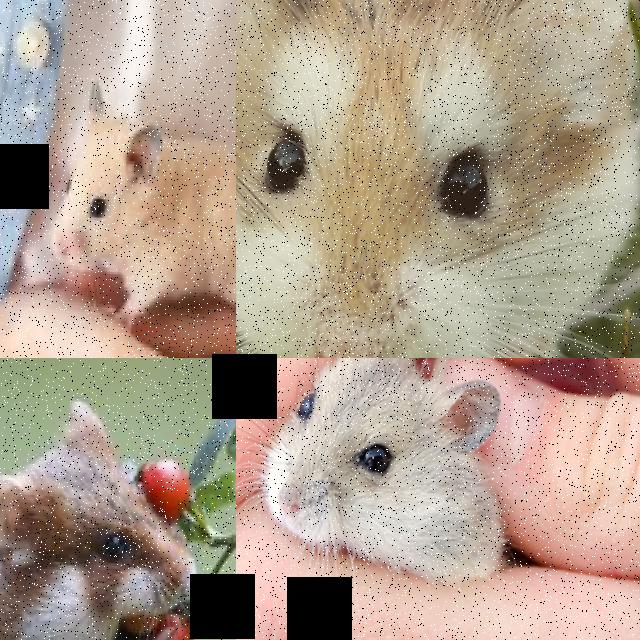hamster: (236, 0, 640, 358), (253, 358, 521, 583), (0, 387, 209, 640), (40, 77, 236, 339)
